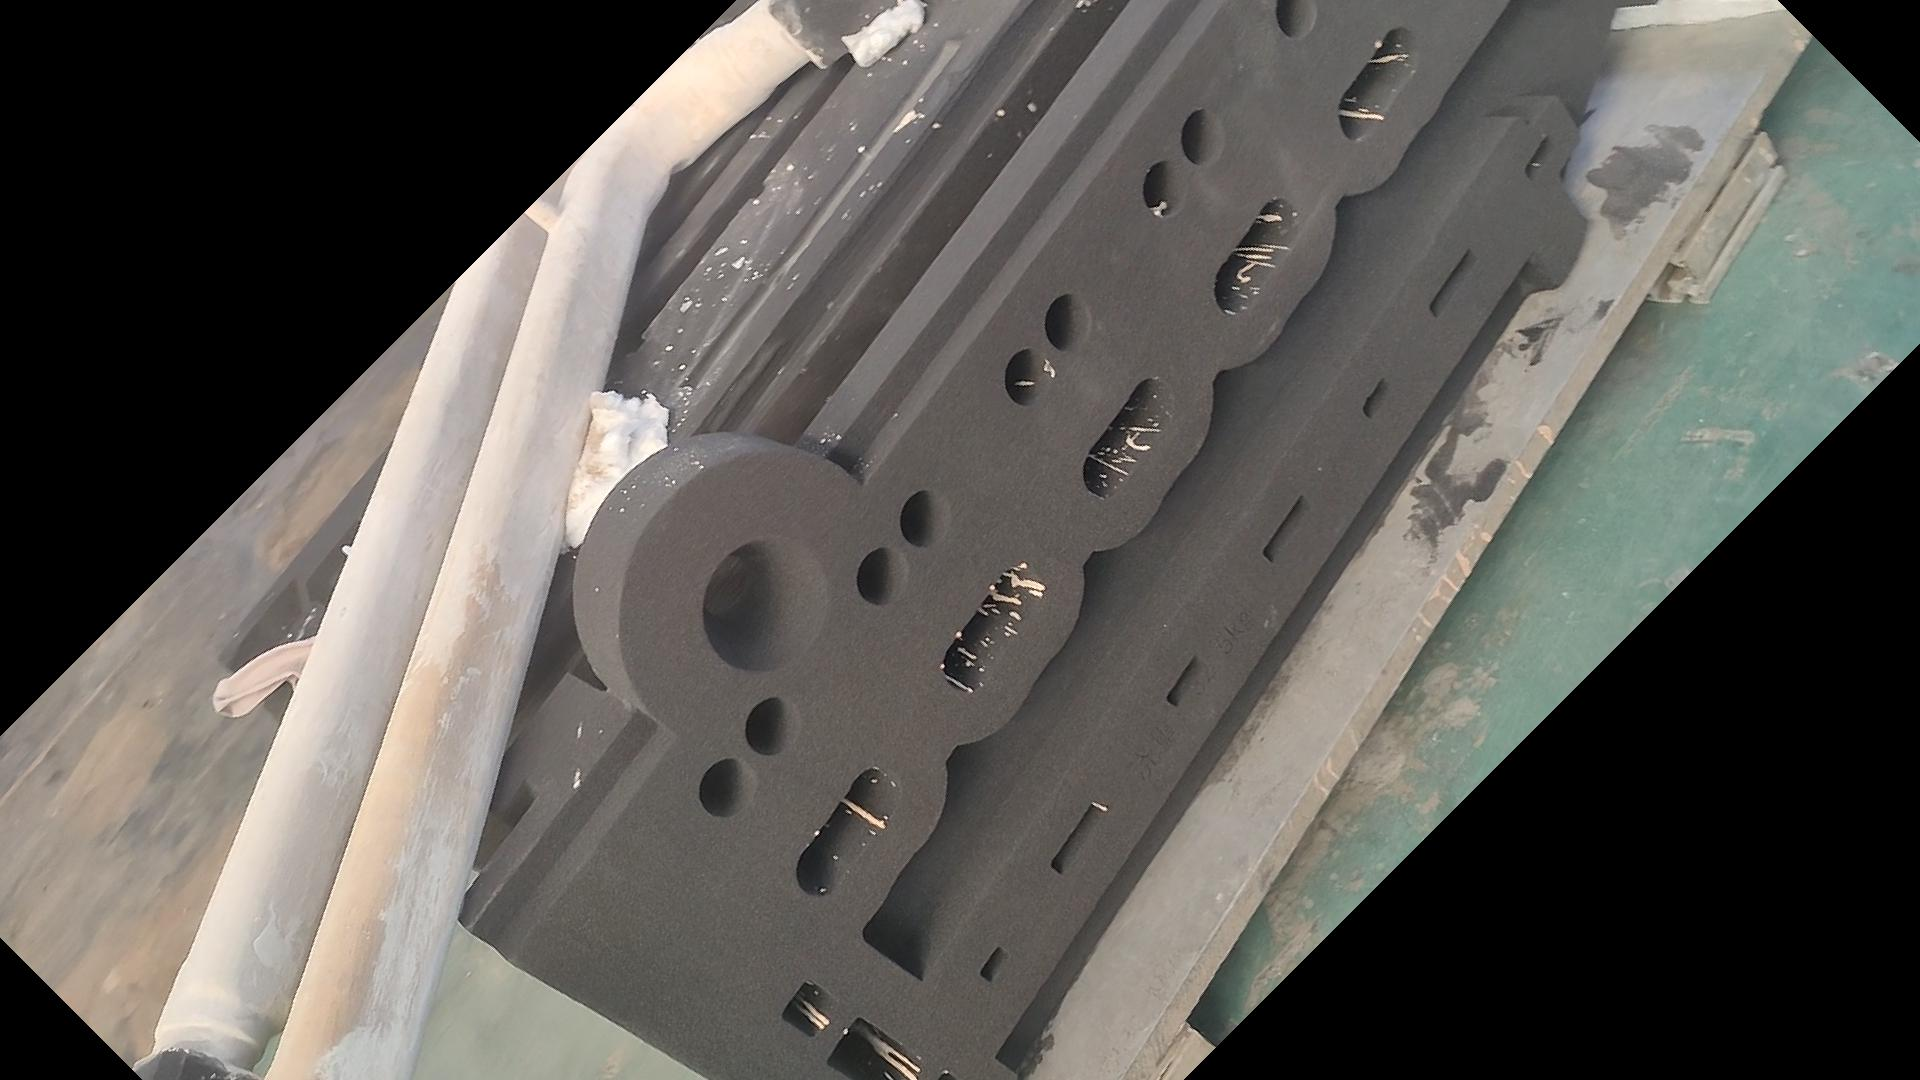pouring hole: (702, 541, 831, 673)
